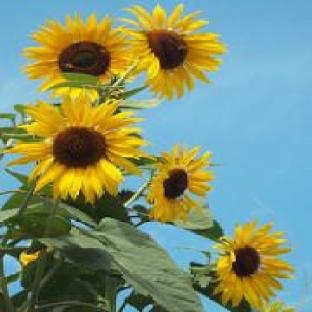sunflower: (9, 96, 146, 203)
